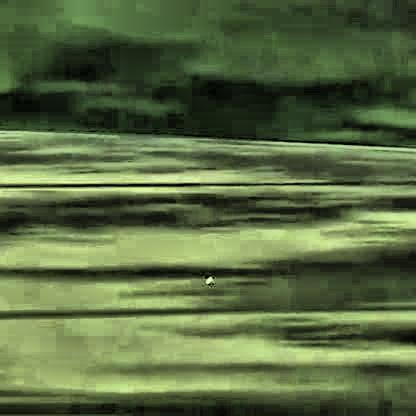golfball: (203, 272, 210, 282)
